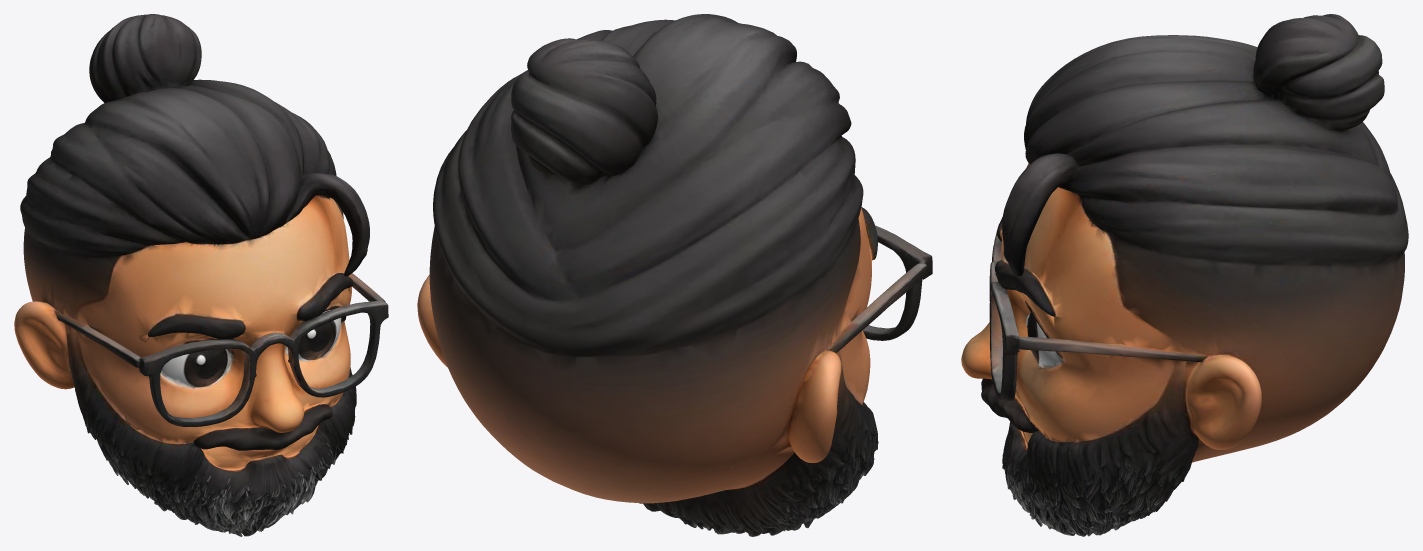
File: avatar.glb
3 views of the same model, side by side, from view 1: azimuth 30°, elevation 25°; view 2: azimuth 150°, elevation 25°; view 3: azimuth 270°, elevation 25° (orthographic). The views are drawn at different scales.
Parts seen in each view (by area): view 1: tripo_node_523816d6-3cce-4d77-b528-0e19b8f138dd; view 2: tripo_node_523816d6-3cce-4d77-b528-0e19b8f138dd; view 3: tripo_node_523816d6-3cce-4d77-b528-0e19b8f138dd.
Part boxes in pixels (x1,y1,x2,y2): tripo_node_523816d6-3cce-4d77-b528-0e19b8f138dd: (14,14,388,536); tripo_node_523816d6-3cce-4d77-b528-0e19b8f138dd: (417,14,932,536); tripo_node_523816d6-3cce-4d77-b528-0e19b8f138dd: (961,14,1408,536).
Bounding box in the file's own units: 0.7338 × 0.9816 × 0.7779.
1 material, 1 textured.
